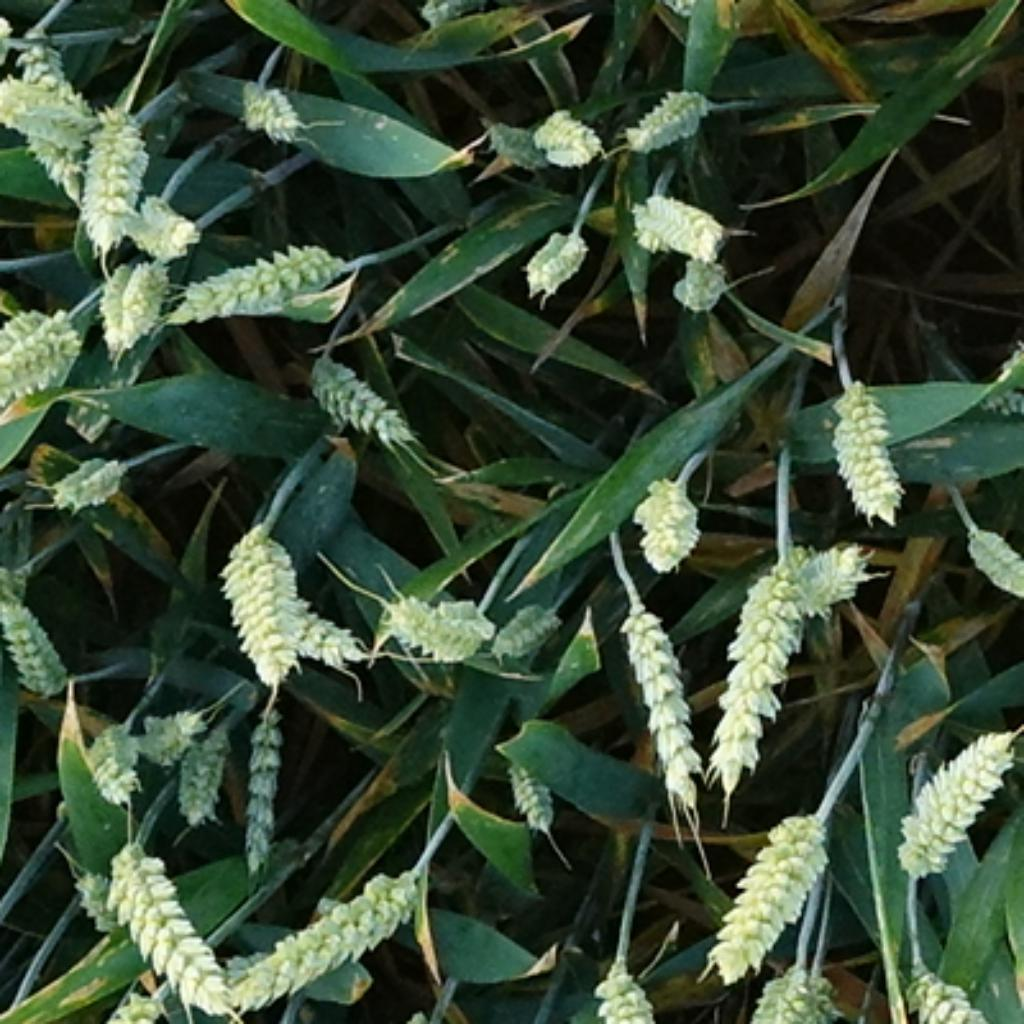0-0: (220, 857, 435, 1008), (706, 547, 819, 826), (101, 845, 255, 1024), (704, 808, 839, 980), (881, 726, 1019, 884), (612, 609, 707, 811), (217, 517, 317, 693), (7, 37, 94, 222), (167, 250, 354, 327), (829, 392, 914, 535), (299, 350, 414, 453), (74, 111, 151, 254), (775, 532, 888, 619), (378, 576, 501, 655), (2, 294, 87, 399), (891, 946, 1004, 1024), (279, 609, 384, 688), (238, 698, 289, 860), (627, 477, 706, 580), (99, 253, 166, 373), (2, 578, 71, 693), (3, 80, 108, 154), (627, 179, 729, 253), (624, 76, 713, 157), (166, 716, 230, 819), (40, 437, 133, 504), (79, 709, 143, 801), (586, 949, 663, 1024), (69, 852, 128, 947), (959, 525, 1023, 609), (486, 588, 563, 657), (750, 962, 834, 1024), (232, 66, 307, 135), (120, 181, 194, 250), (128, 696, 204, 762), (523, 108, 605, 169), (519, 231, 591, 300), (496, 747, 560, 824), (668, 250, 732, 311), (479, 118, 545, 171), (960, 371, 1024, 419), (637, 0, 704, 10)
